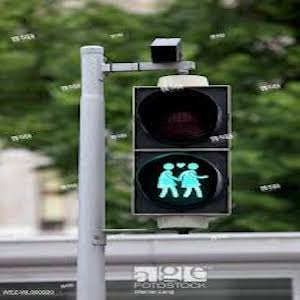green: (150, 157, 210, 199)
